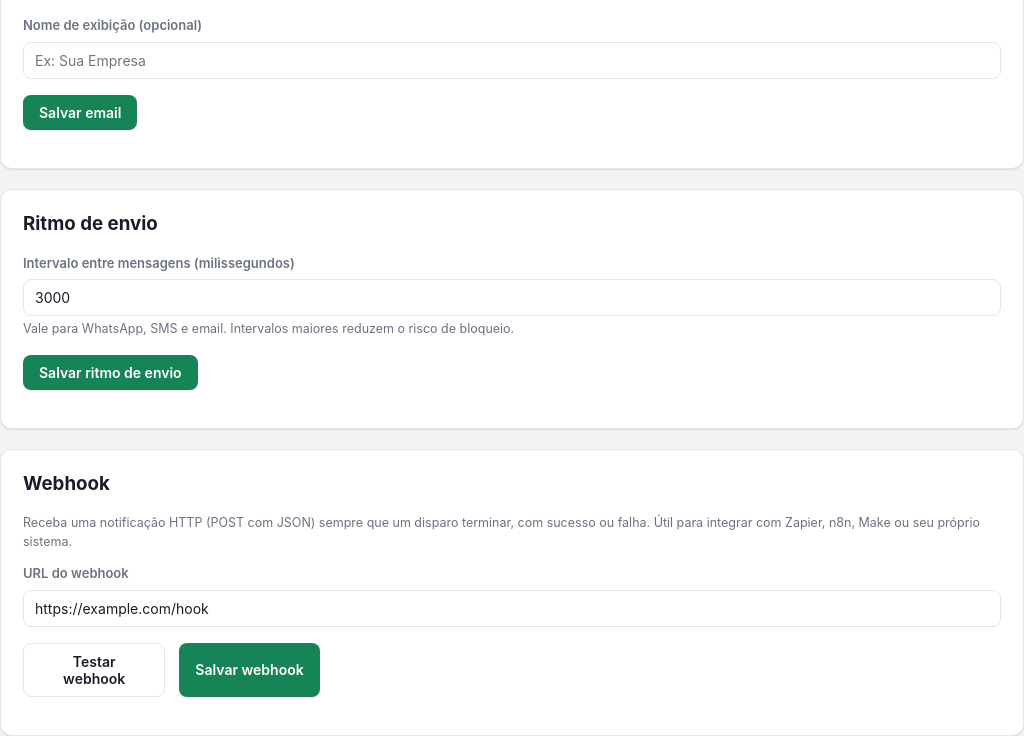
Test: ConfiguracoesPage - Webhook › shows an error toast when the test webhook fails
(page scrolled)
Click the button "Testar webhook" at (94, 670), box [23,643,165,697]
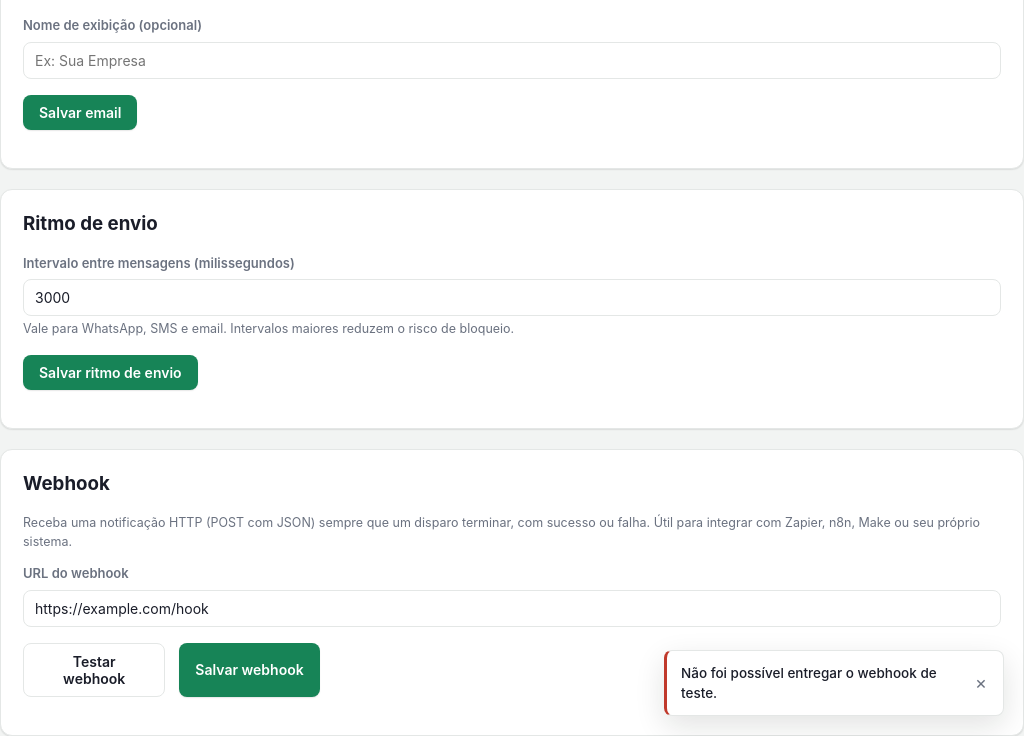
Expected: the text "Não foi possível entregar o webhook de teste." is shown, [681,662,963,703]
